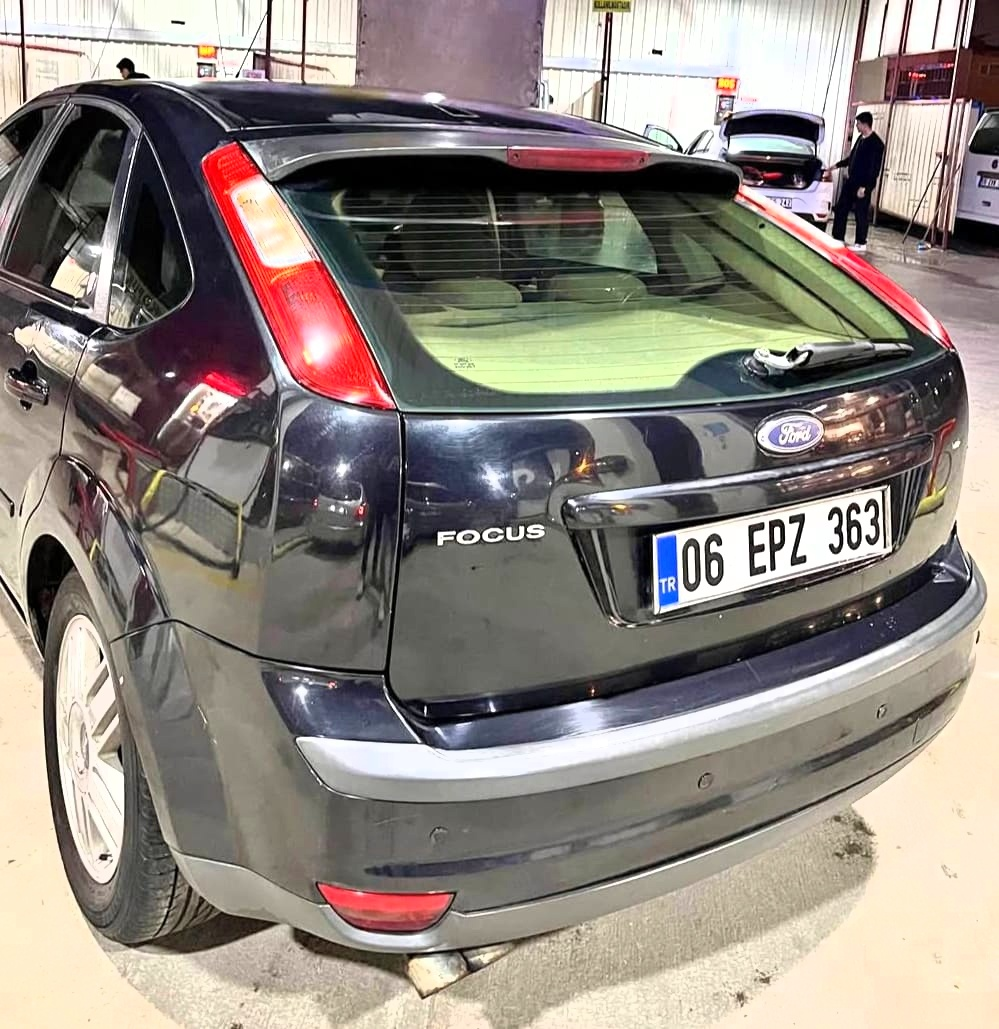plaka: (670, 492, 935, 605)
